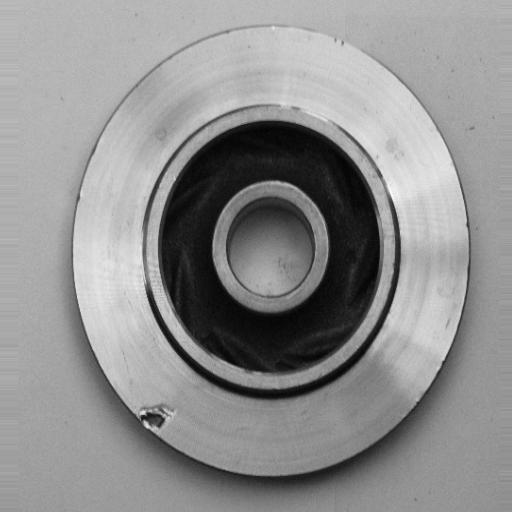crack: (125, 390, 186, 447)
unpolished_casting: (64, 24, 475, 481)
